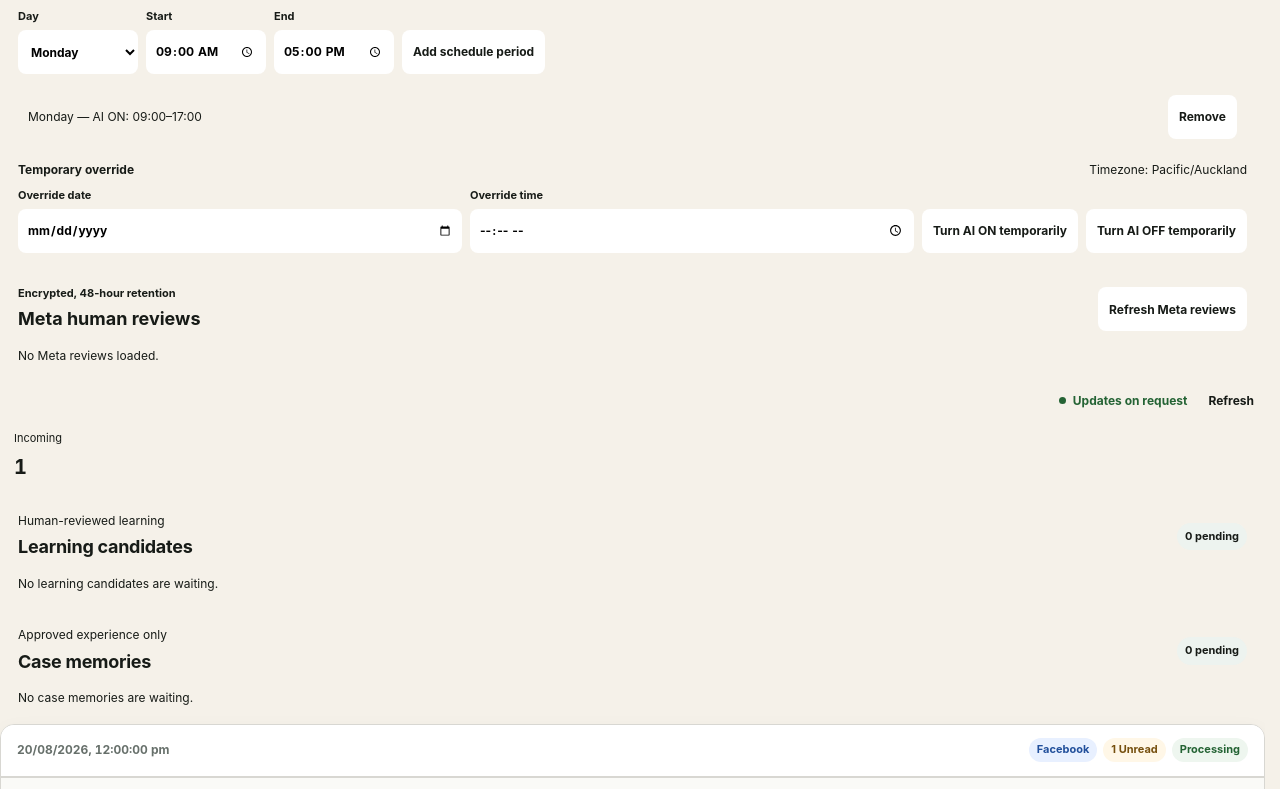
ReplyAssistantLiveDashboard › retries conversation takeover status after a no-change conversation refresh
The width and height of the screenshot is (1280, 789).
(page scrolled)
Click the button with aria-label "Refresh conversations".
click(1231, 400)  # box [1197, 383, 1265, 417]
(page scrolled)
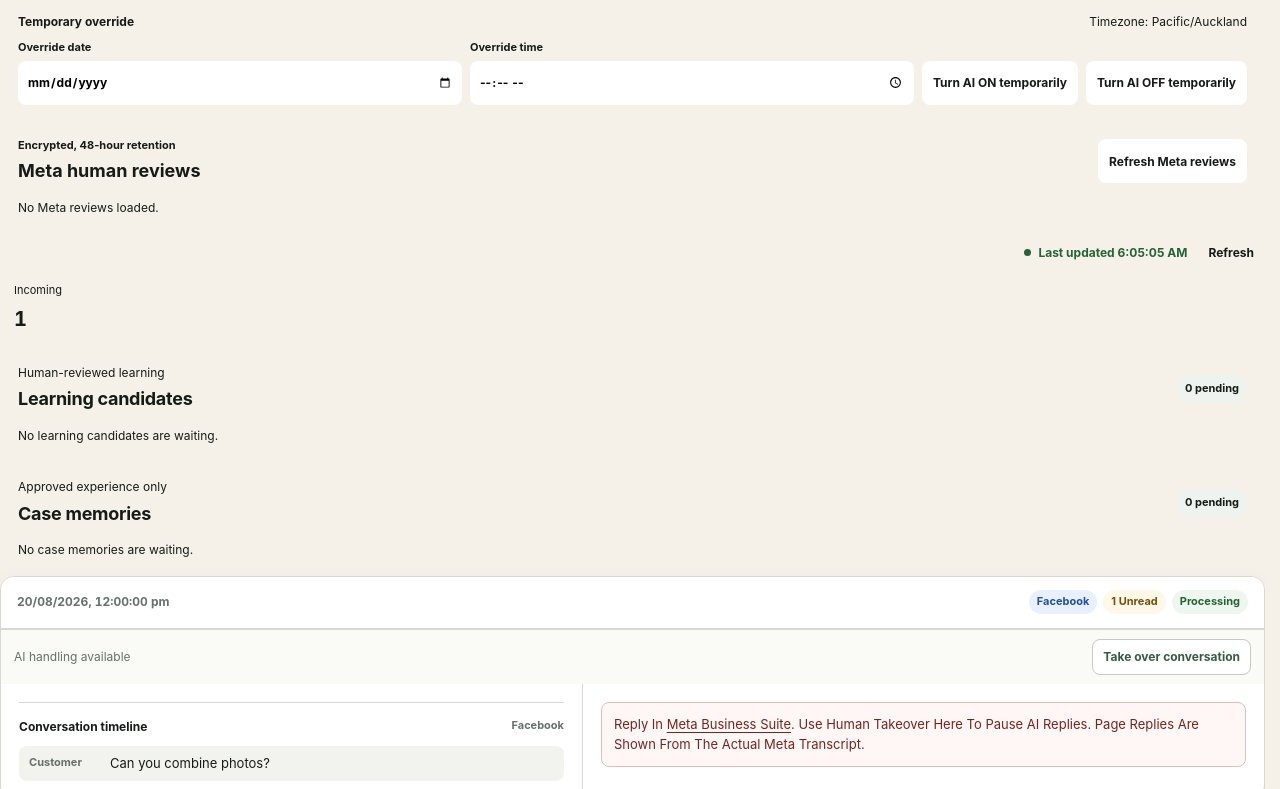
Expected: the button "Take over conversation" is enabled, [1092, 638, 1251, 674]
